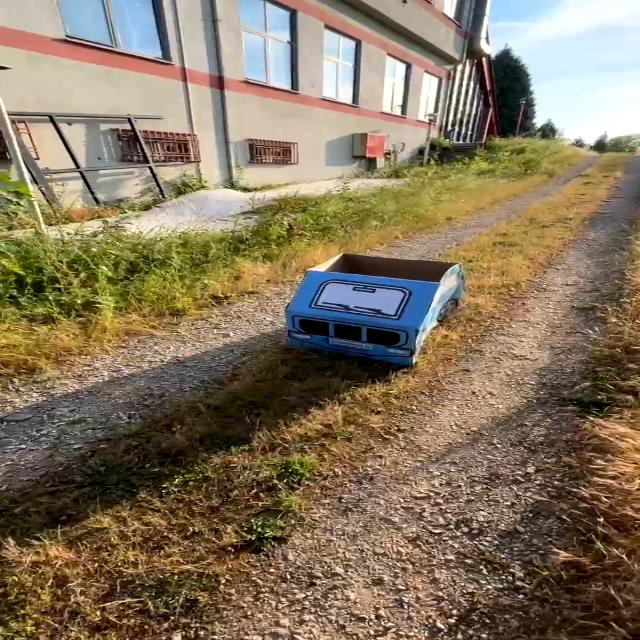blue_car: (253, 238, 500, 379)
